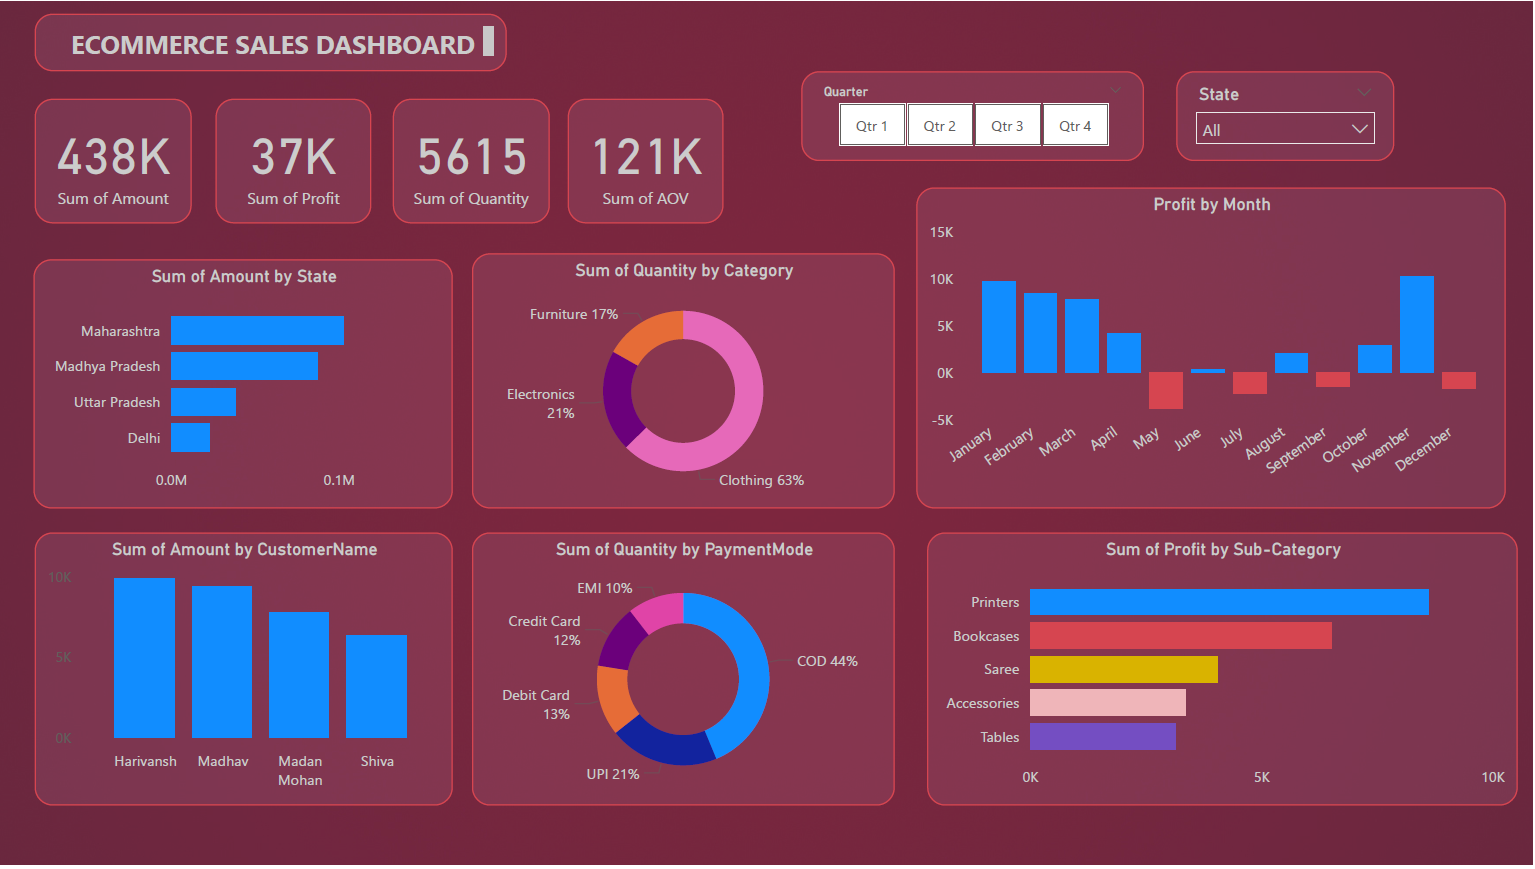

What the dashboard file says about the page in this screenshot:
{"tool":"powerbi","page":{"name":"Page 1","canvas":[1280,720],"ordinal":0},"visuals":[{"type":"textbox","box":[30.2,9.6,393.8,48],"z":0},{"type":"columnChart","title":"Profit by Month","fields":{"Category":["Orders.Order Date.Variation.Date Hierarchy.Month"],"Y":["Sum(Details.Profit)"]},"box":[765.7,155.1,492.6,267.6],"z":1000},{"type":"barChart","fields":{"Category":["Details.Sub-Category"],"Y":["Sum(Details.Profit)"]},"box":[775.3,443.2,492.6,227.8],"z":2000},{"type":"donutChart","fields":{"Category":["Details.Category"],"Y":["Sum(Details.Quantity)"]},"box":[395.2,209.9,352.7,212.7],"z":3000},{"type":"donutChart","fields":{"Y":["Sum(Details.Quantity)"],"Category":["Details.PaymentMode"]},"box":[395.2,443.2,352.7,227.8],"z":4000},{"type":"card","fields":{"Values":["Sum(Details.Amount)"]},"box":[30.2,81,130.4,104.3],"z":5000},{"type":"card","fields":{"Values":["Sum(Details.Profit)"]},"box":[181.1,81,130.4,104.3],"z":6000},{"type":"card","fields":{"Values":["Sum(Details.Quantity)"]},"box":[329.3,81,130.4,104.3],"z":7000},{"type":"card","fields":{"Values":["Sum(Details.AOV)"]},"box":[474.8,81,130.4,104.3],"z":8000},{"type":"barChart","fields":{"Category":["Orders.State"],"Y":["Sum(Details.Amount)"]},"box":[28.8,215.4,349.9,207.2],"z":9000},{"type":"columnChart","fields":{"Category":["Orders.CustomerName"],"Y":["Sum(Details.Amount)"]},"box":[30.2,443.2,348.5,227.8],"z":10000},{"type":"slicer","fields":{"Values":["Orders.Order Date.Variation.Date Hierarchy.Quarter"]},"box":[669.6,57.6,286.8,75.5],"z":11000},{"type":"slicer","fields":{"Values":["Orders.State"]},"box":[982.5,57.6,182.5,75.5],"z":12000}]}

Visuals, with their boxes in screenshot pixels (x1, y1, x2, y2), scaled from the page's 1280x720 canvas onto the 1535x869 screenshot:
textbox: detection(36, 12, 508, 70)
"Profit by Month" columnChart: detection(918, 187, 1509, 510)
barChart - Details.Sub-Category x Sum(Details.Profit): detection(930, 535, 1520, 810)
donutChart - Details.Category x Sum(Details.Quantity): detection(474, 253, 897, 510)
donutChart - Sum(Details.Quantity) x Details.PaymentMode: detection(474, 535, 897, 810)
card - Sum(Details.Amount): detection(36, 98, 193, 224)
card - Sum(Details.Profit): detection(217, 98, 374, 224)
card - Sum(Details.Quantity): detection(395, 98, 551, 224)
card - Sum(Details.AOV): detection(569, 98, 726, 224)
barChart - Orders.State x Sum(Details.Amount): detection(35, 260, 454, 510)
columnChart - Orders.CustomerName x Sum(Details.Amount): detection(36, 535, 454, 810)
slicer - Orders.Order Date.Variation.Date Hierarchy.Quarter: detection(803, 70, 1147, 161)
slicer - Orders.State: detection(1178, 70, 1397, 161)
